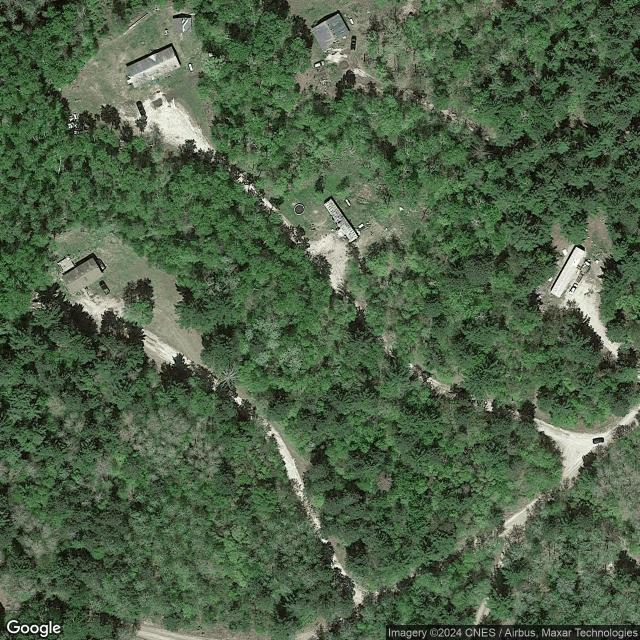Propane: (344, 197, 352, 208), (187, 61, 194, 73), (348, 17, 356, 26)
